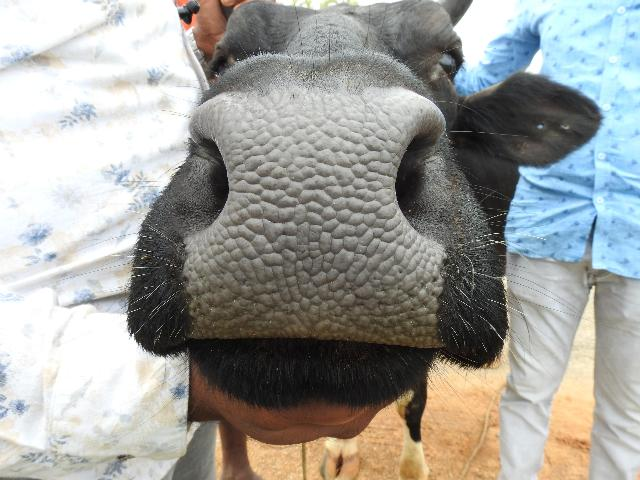Muzzle: (212, 96, 400, 326)
